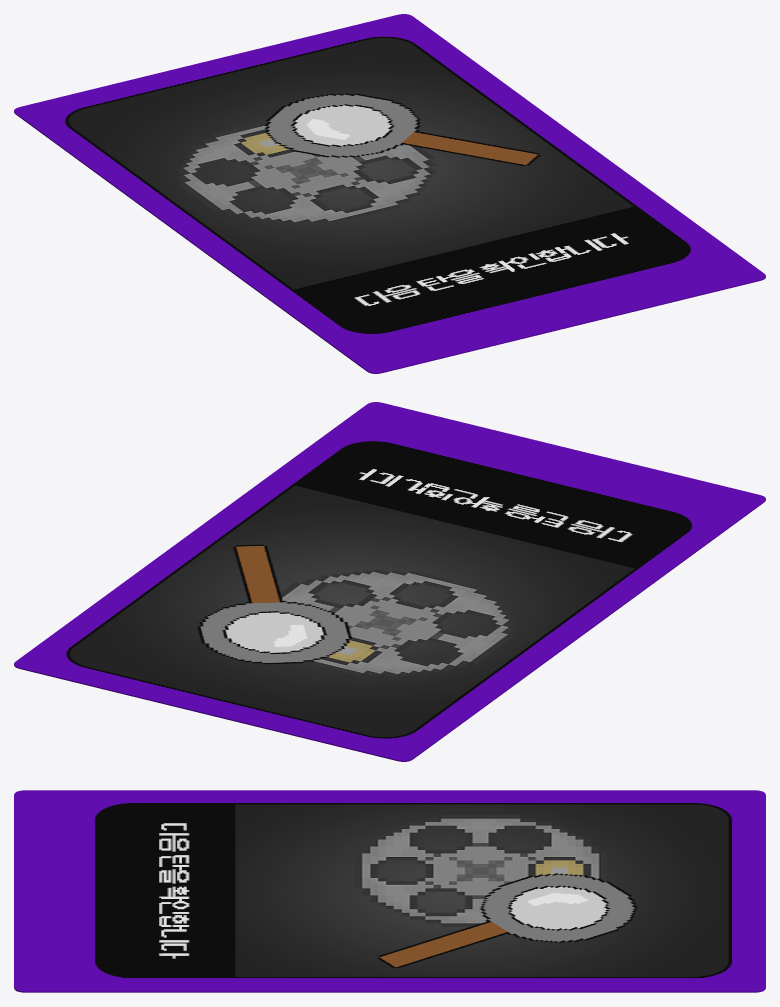
File: BulletCheak Card.fbx
The picture shows the model from 3 angles, top to bottom: view 1: azimuth 30°, elevation 25°; view 2: azimuth 150°, elevation 25°; view 3: azimuth 270°, elevation 25°; orthographic projection. The views are drawn at different scales.
Visible parts, largest first — view 1: Box001; view 2: Box001; view 3: Box001.
Part boxes in pixels (x1,y1,x2,y2): Box001: (14, 14, 765, 373); Box001: (14, 402, 765, 761); Box001: (14, 790, 765, 992).
Size of the model in its own units: 74.8 by 0.1969 by 118.
